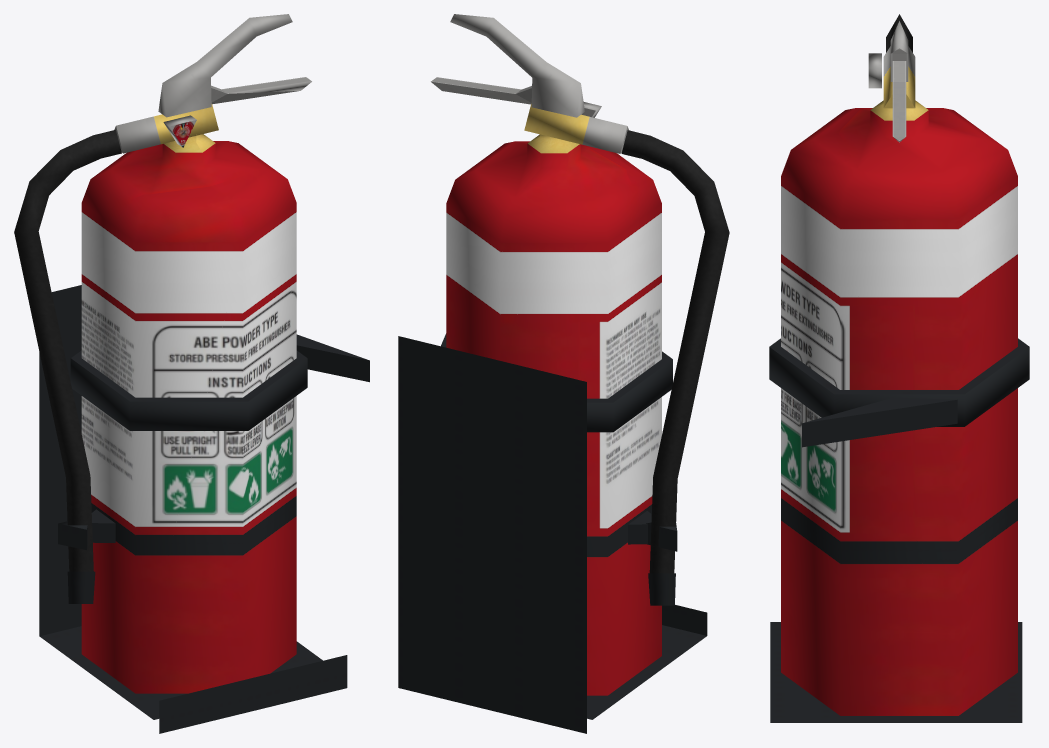
The model's file is fire-extinguisher-cbj_LOD03.gltf.
3 renders of one model, left to right at view 1: azimuth 30°, elevation 25°; view 2: azimuth 150°, elevation 25°; view 3: azimuth 270°, elevation 25°, orthographic. The views are drawn at different scales.
Visible parts, largest first — view 1: Fire extinguisher.004; view 2: Fire extinguisher.004; view 3: Fire extinguisher.004.
Boxes of the visible parts, <box> form: Fire extinguisher.004: <box>14,14,369,733</box>; Fire extinguisher.004: <box>398,14,729,733</box>; Fire extinguisher.004: <box>769,14,1029,722</box>.
Size of the model in its own units: 0.3306 by 0.6408 by 0.2306.
